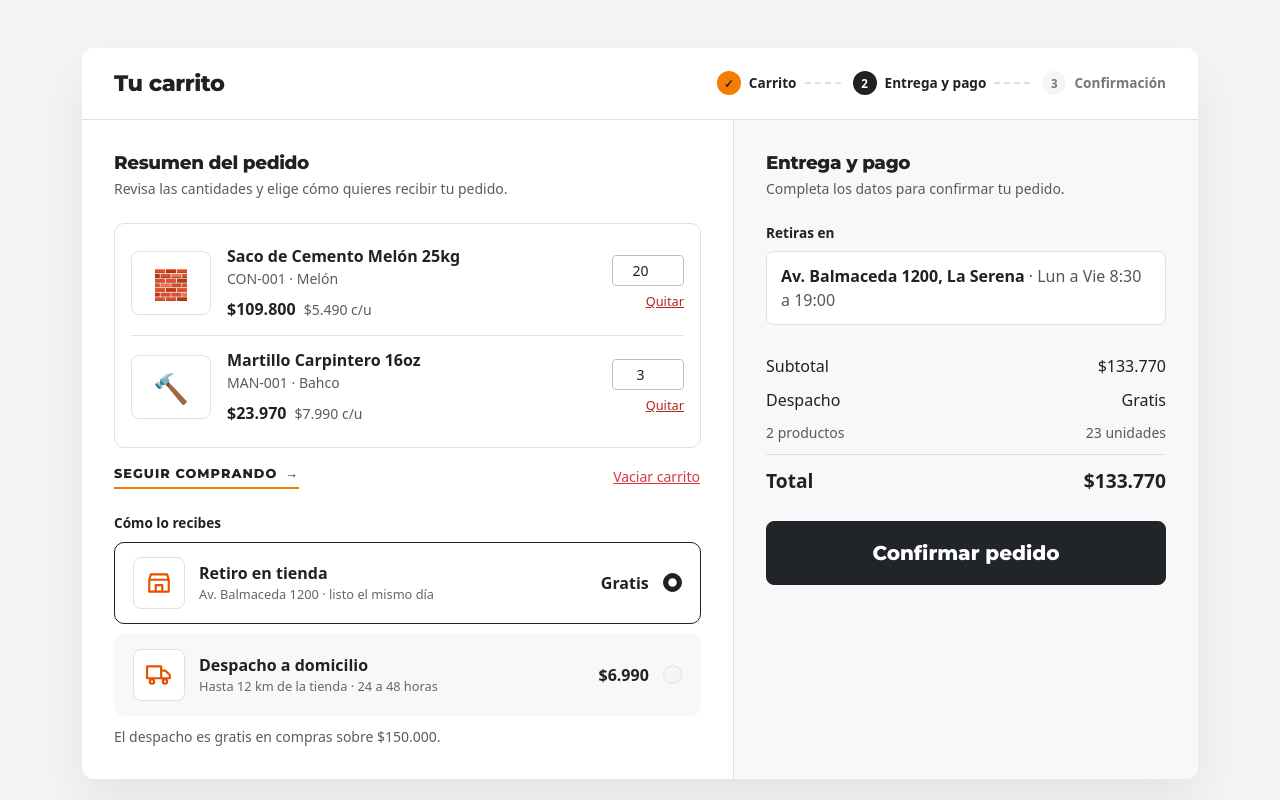
it: Carrito › quita un producto del carrito
Step 1. Click the button with aria-label "Quitar Martillo Carpintero 16oz" → (665, 406), box 646,396 -> 684,416
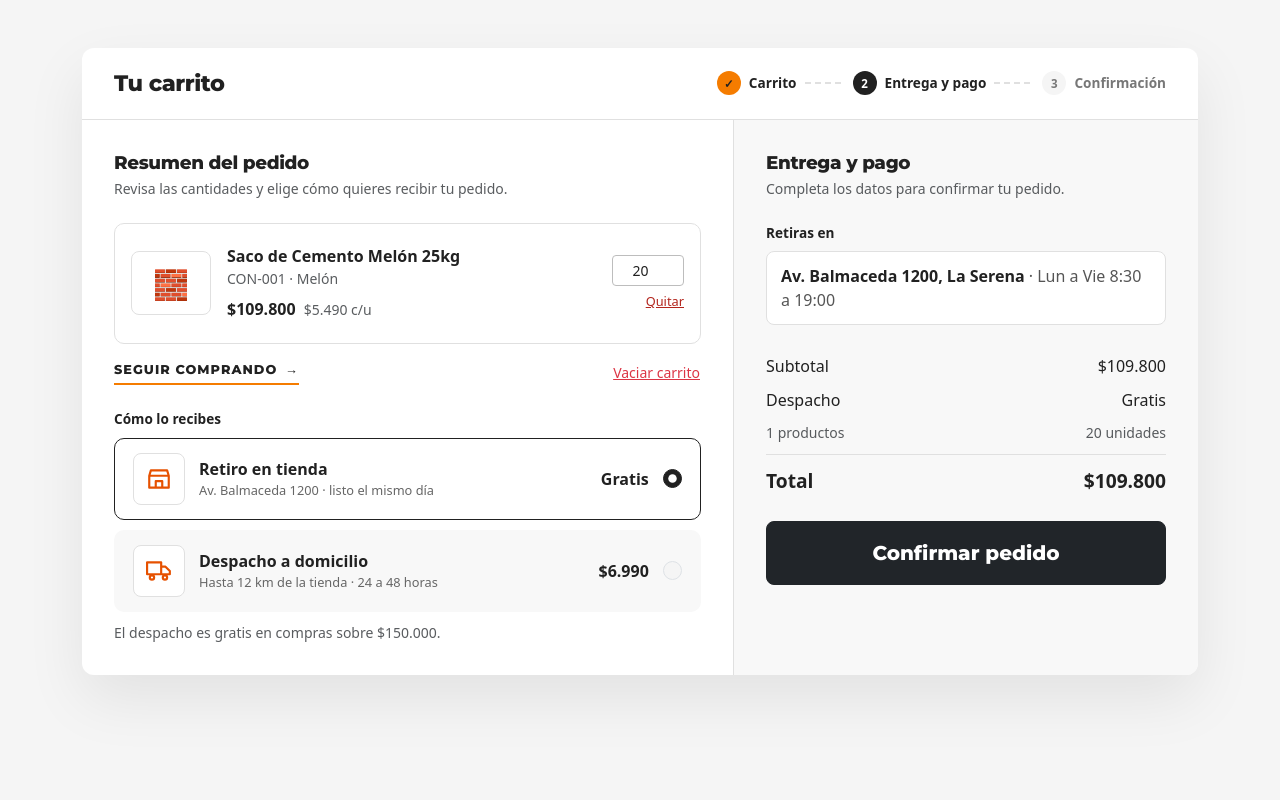
Expected: the text "Martillo Carpintero 16oz" is gone
